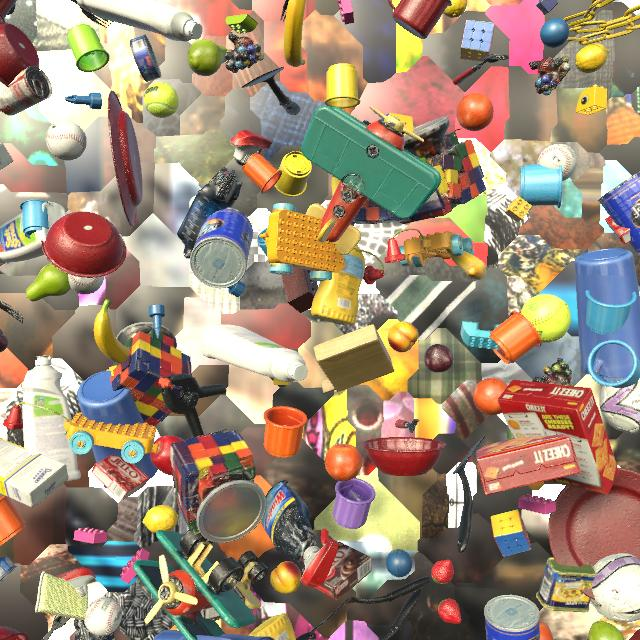ycb_002_master_chef_can: (190, 207, 253, 288), (598, 171, 640, 257), (484, 595, 540, 640)
ycb_003_cracker_box: (497, 380, 619, 495), (476, 434, 581, 495)
ycb_004_sugar_box: (0, 438, 68, 507), (0, 143, 13, 170)
ycb_005_tomato_soup_can: (0, 66, 52, 116)
ycb_006_mustard_bottle: (311, 245, 365, 325), (248, 613, 296, 640)
ycb_007_tuna_fish_can: (129, 34, 162, 82), (0, 555, 17, 582)
ycb_008_pudding_box: (302, 542, 372, 600), (201, 586, 246, 621)
ycb_009_gelatin_box: (91, 455, 149, 501), (605, 216, 631, 244)
ycb_010_potted_meat_can: (536, 557, 597, 612)
ycb_011_banana: (94, 299, 130, 364), (284, 0, 306, 67), (446, 249, 486, 280)
ycb_012_strawberry: (438, 598, 461, 624), (431, 560, 454, 584)
ycb_013_apple: (150, 435, 184, 476)
ycb_014_lemon: (575, 43, 609, 73), (143, 505, 179, 533), (443, 0, 467, 18)
ycb_015_peach: (270, 561, 301, 594), (388, 321, 419, 352)
ycb_016_pear: (26, 263, 71, 301), (187, 40, 227, 76), (588, 621, 625, 640)
ycb_017_orange: (456, 93, 494, 131), (325, 444, 362, 482), (473, 378, 508, 415), (539, 620, 553, 640)
ycb_018_plum: (424, 344, 453, 373), (0, 329, 8, 353), (308, 639, 316, 640)
